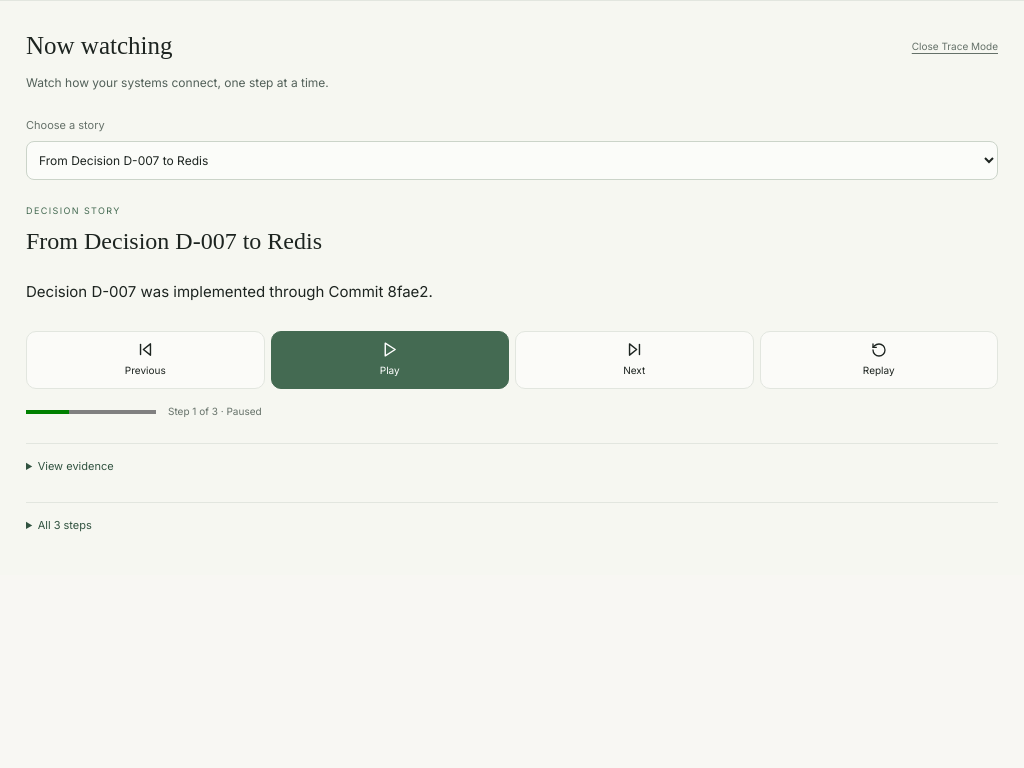
Test: local deterministic Trace Mode controls › starts paused, plays one step at a time, pauses and resumes through completion
The image size is (1024, 768).
Check: the text "Step 1 of 3 · Paused" is shown, box [168,404,262,419]
Click the button "Play" at (390,360), box [270,331,509,389]
Wait 2200 ms
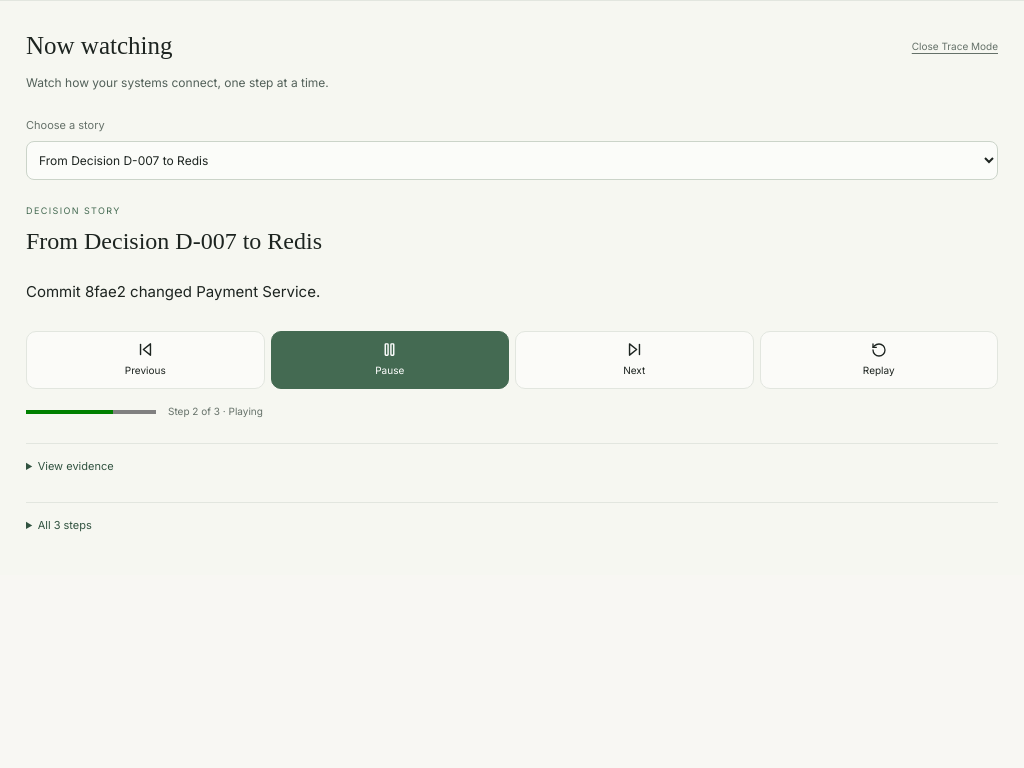
Check: the text "Step 2 of 3 · Playing" is shown, box [168,404,263,419]
Click the button "Pause" at (390,360), box [270,331,509,389]
Wait 9000 ms
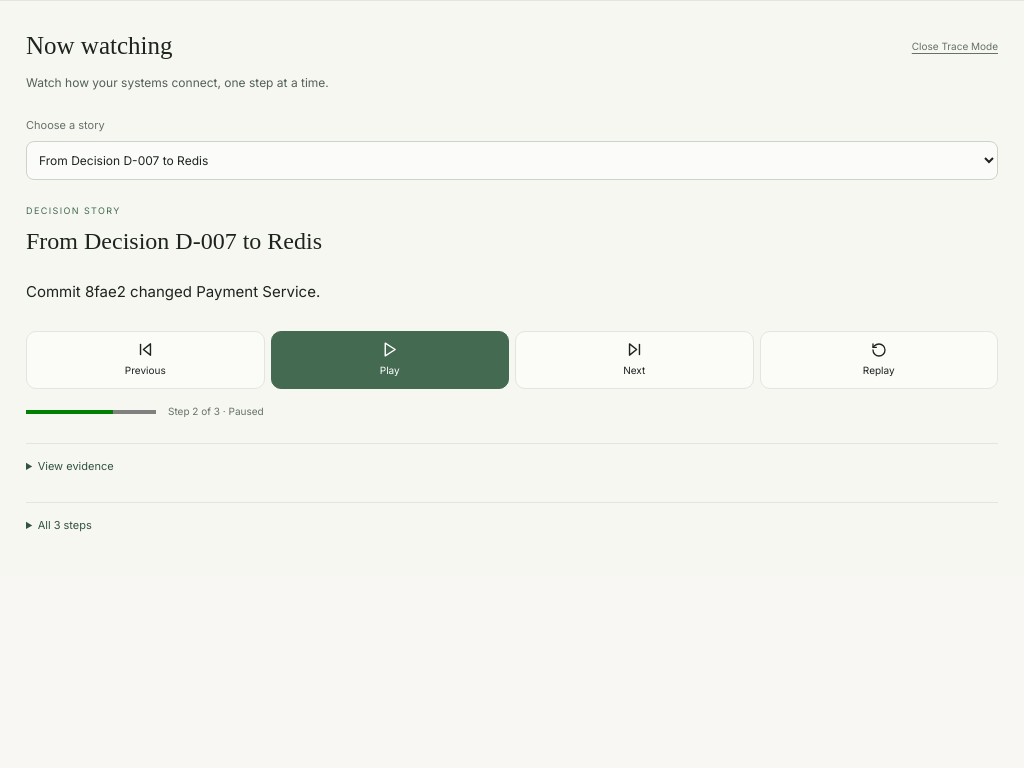
Check: the text "Step 2 of 3 · Paused" is shown, box [168,404,264,419]
Click the button "Play" at (390,360), box [270,331,509,389]
Wait 4400 ms
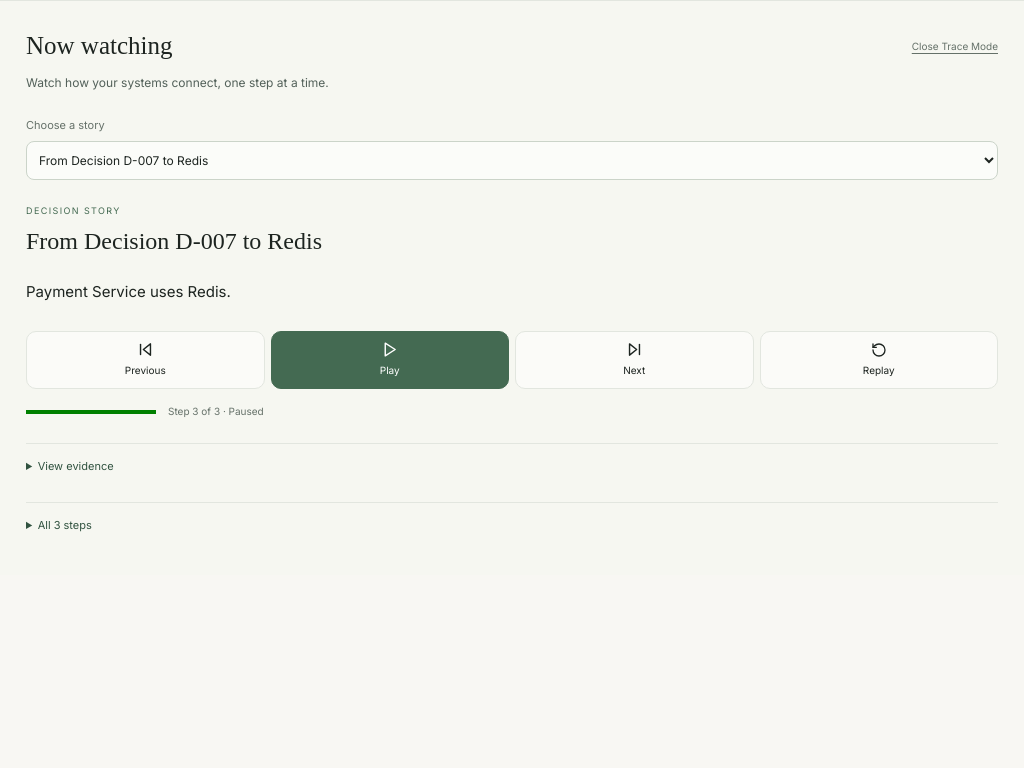
Check: the text "Step 3 of 3 · Paused" is shown, box [168,404,264,419]
